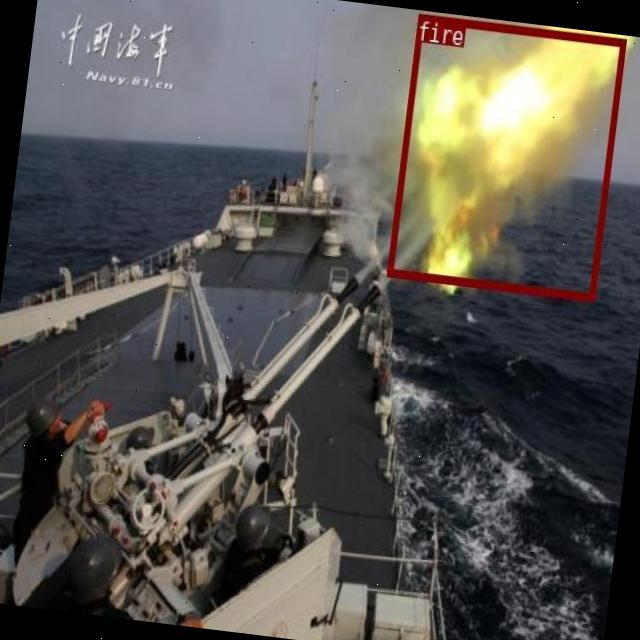fire: (385, 12, 625, 300)
